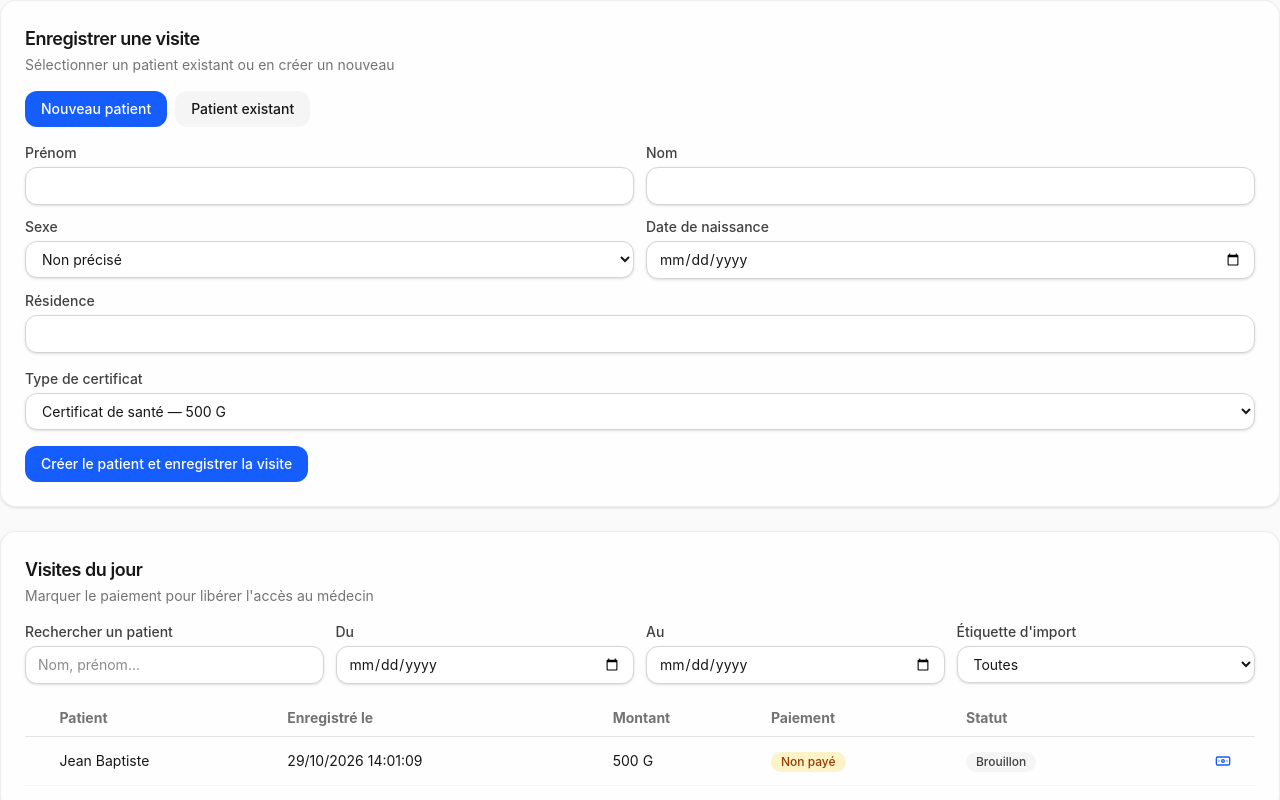
Scenario: ReceptionPage › shows a validation error when submitting without a patient/type
Click the button "Patient existant" at (243, 109), box [175, 91, 310, 127]
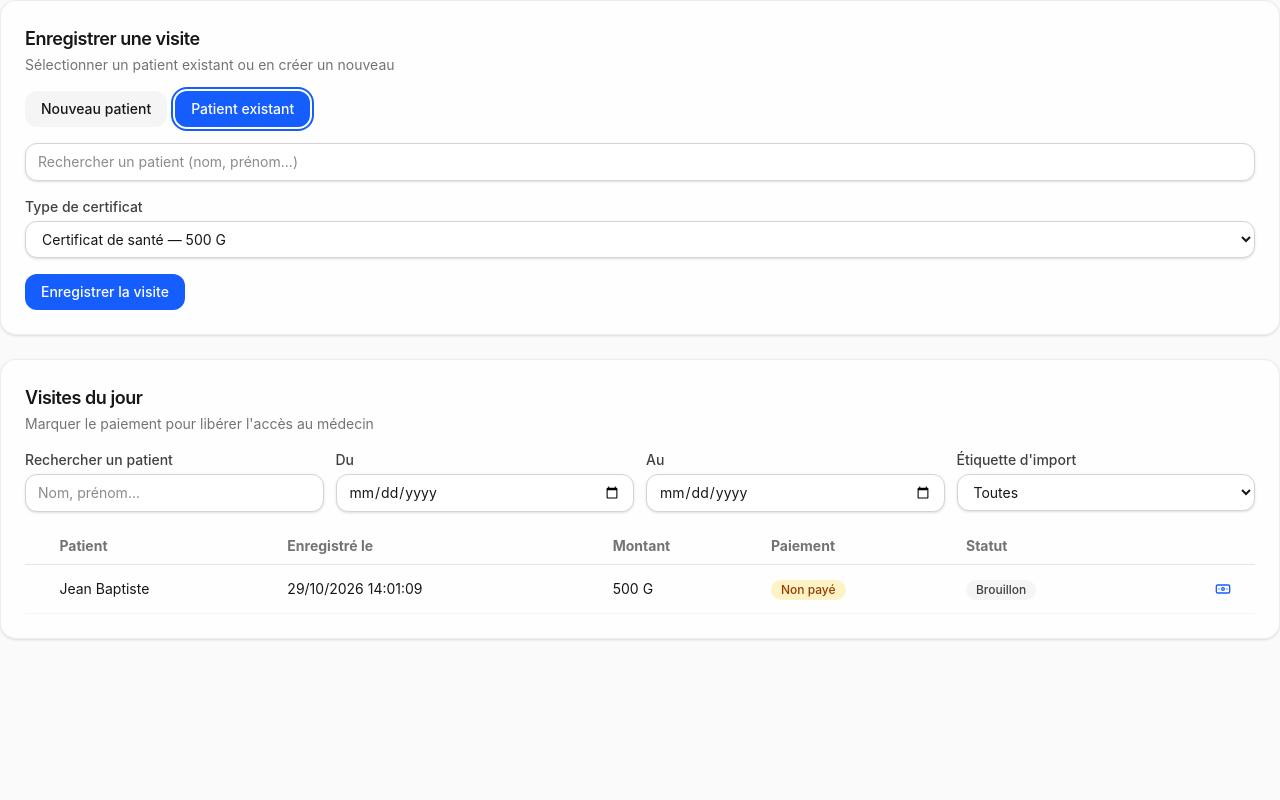
Click the button "Enregistrer la visite" at (105, 292), box [25, 274, 185, 310]
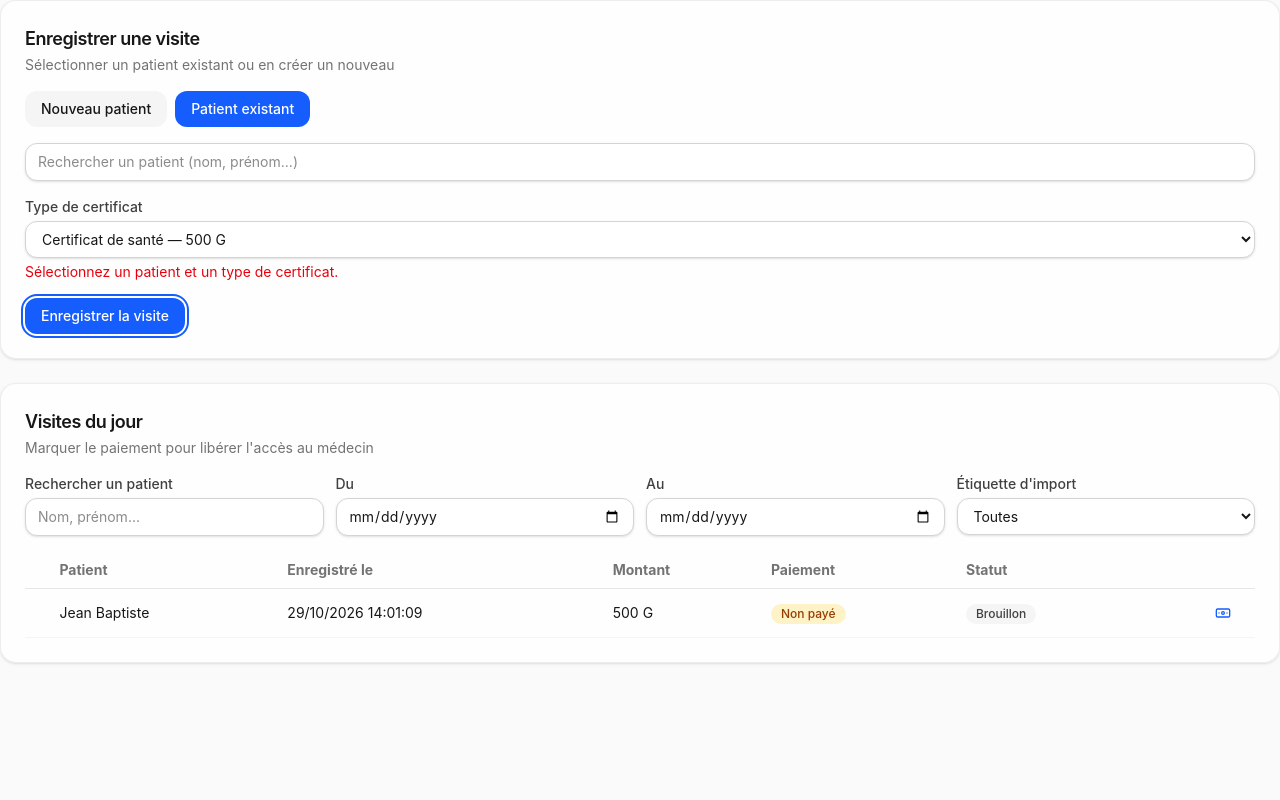
Check: the text "Sélectionnez un patient et un type de certificat." is shown, box [25, 263, 338, 280]
